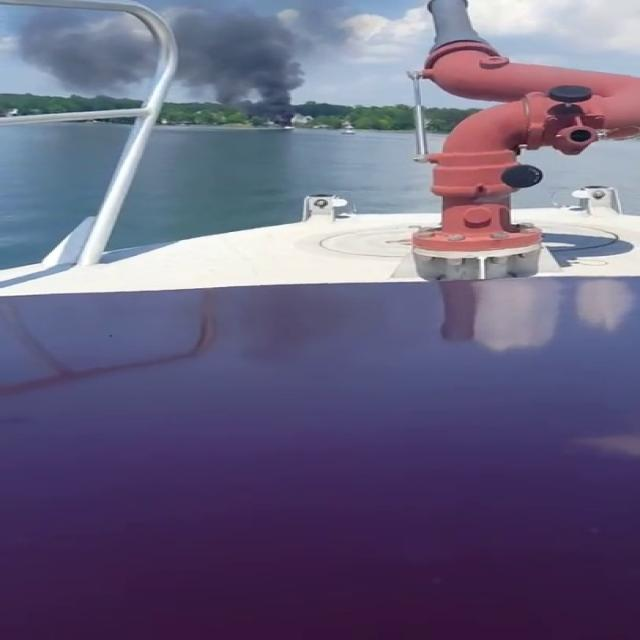Smoke: (2, 0, 318, 111)
